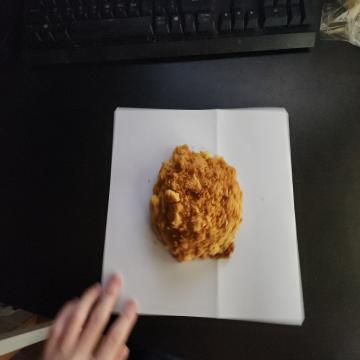soboru_bread: (150, 143, 247, 272)
